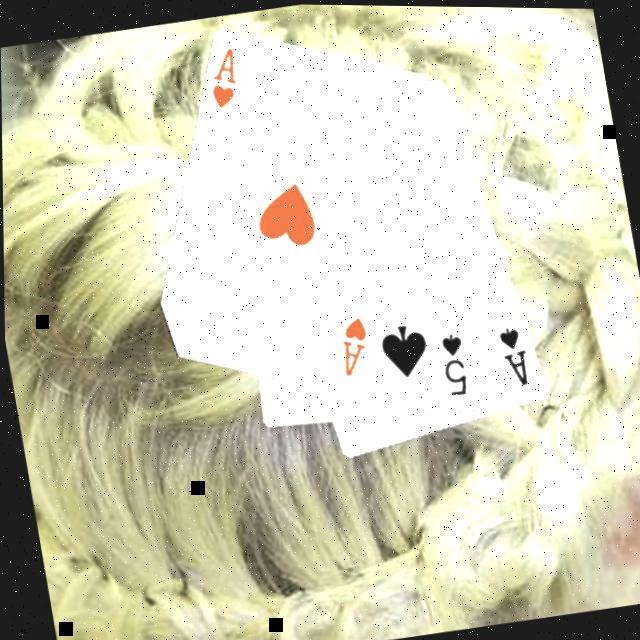5S: (432, 326, 472, 398)
AH: (328, 310, 376, 380), (198, 40, 245, 111)
AS: (492, 319, 532, 389)
